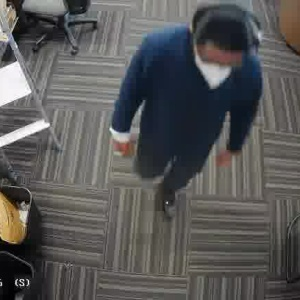person: (113, 0, 259, 215)
